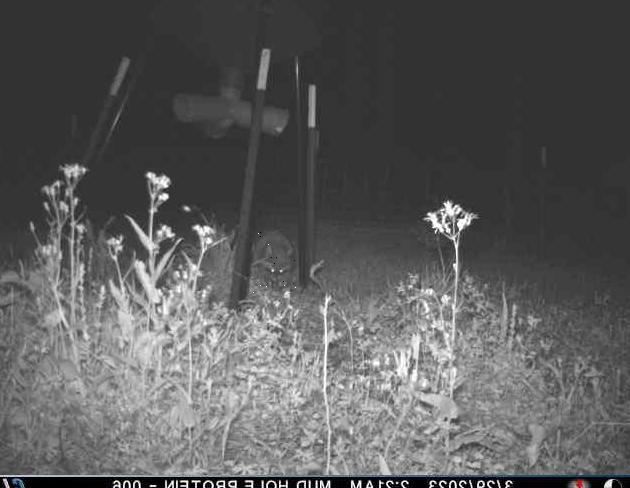Raccoon: (247, 229, 295, 294)
